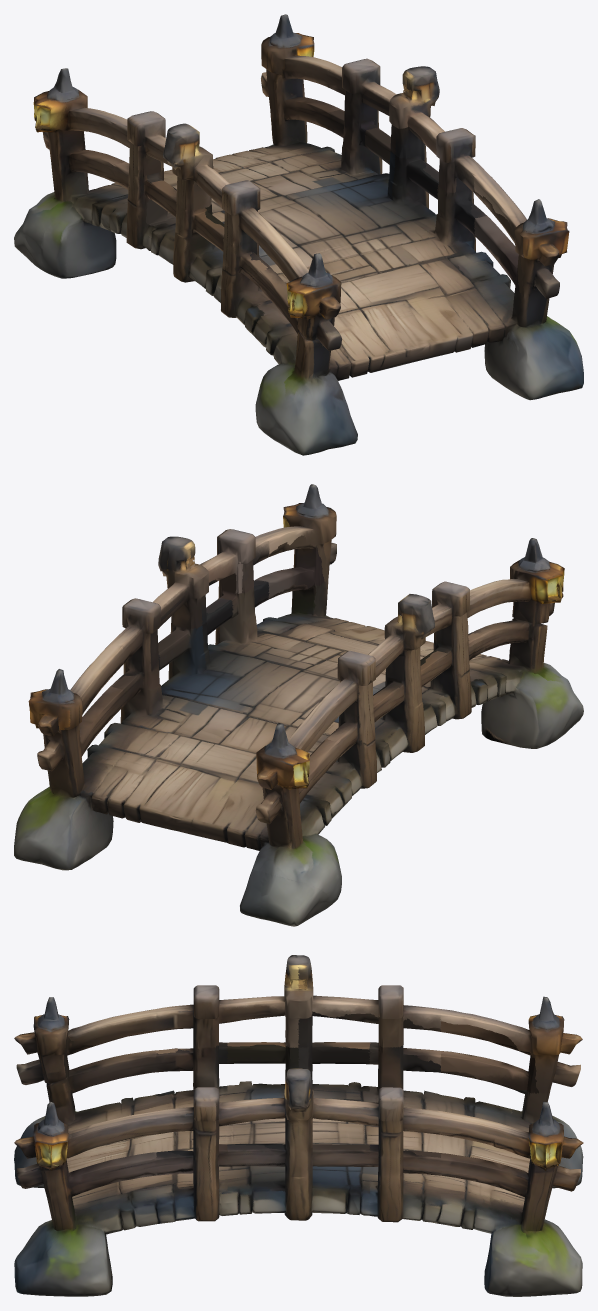
The model's file is bridge.glb.
The picture shows the model from 3 angles, top to bottom: view 1: azimuth 30°, elevation 25°; view 2: azimuth 150°, elevation 25°; view 3: azimuth 270°, elevation 25°; orthographic projection. The views are drawn at different scales.
Visible parts, largest first — view 1: Bridge_Visual; view 2: Bridge_Visual; view 3: Bridge_Visual.
Part boxes in pixels (bbox=[...]): Bridge_Visual: bbox=[14, 14, 583, 455]; Bridge_Visual: bbox=[14, 484, 583, 926]; Bridge_Visual: bbox=[14, 955, 583, 1296].
Size of the model in its own units: 1.01 by 0.6889 by 1.69.
1 material, 1 textured.
